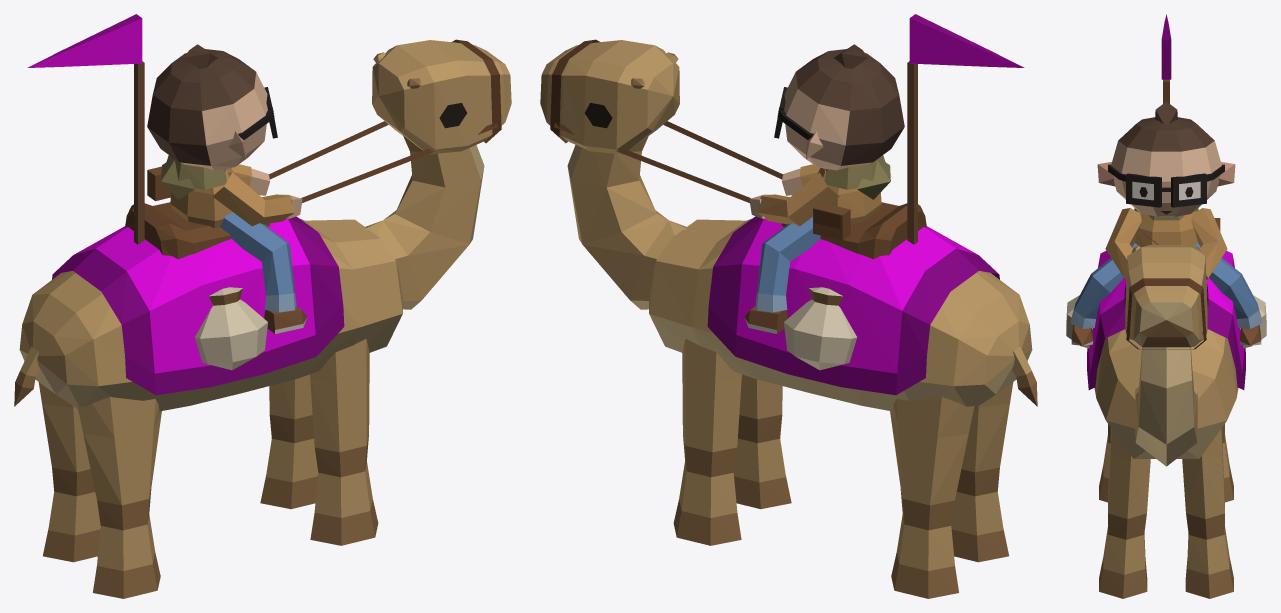
Rendered from player_camel.glb.
3 views of the same model, side by side, from view 1: azimuth 30°, elevation 25°; view 2: azimuth 150°, elevation 25°; view 3: azimuth 270°, elevation 25° (orthographic). The views are drawn at different scales.
Visible parts, largest first — view 1: player_camel; view 2: player_camel; view 3: player_camel.
Boxes of the visible parts, x1=… form: player_camel: x1=14, y1=14, x2=511, y2=598; player_camel: x1=540, y1=14, x2=1037, y2=598; player_camel: x1=1066, y1=14, x2=1266, y2=598.
Size of the model in its own units: 1 by 1.06 by 0.4133.
